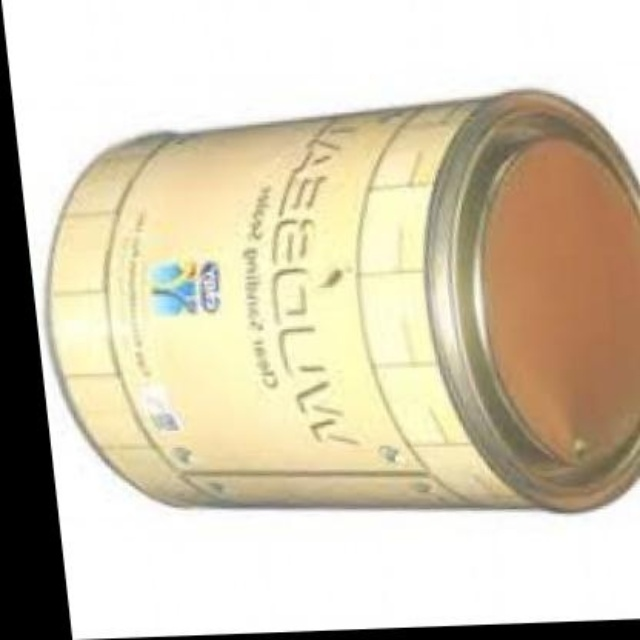trash: (49, 91, 638, 509)
